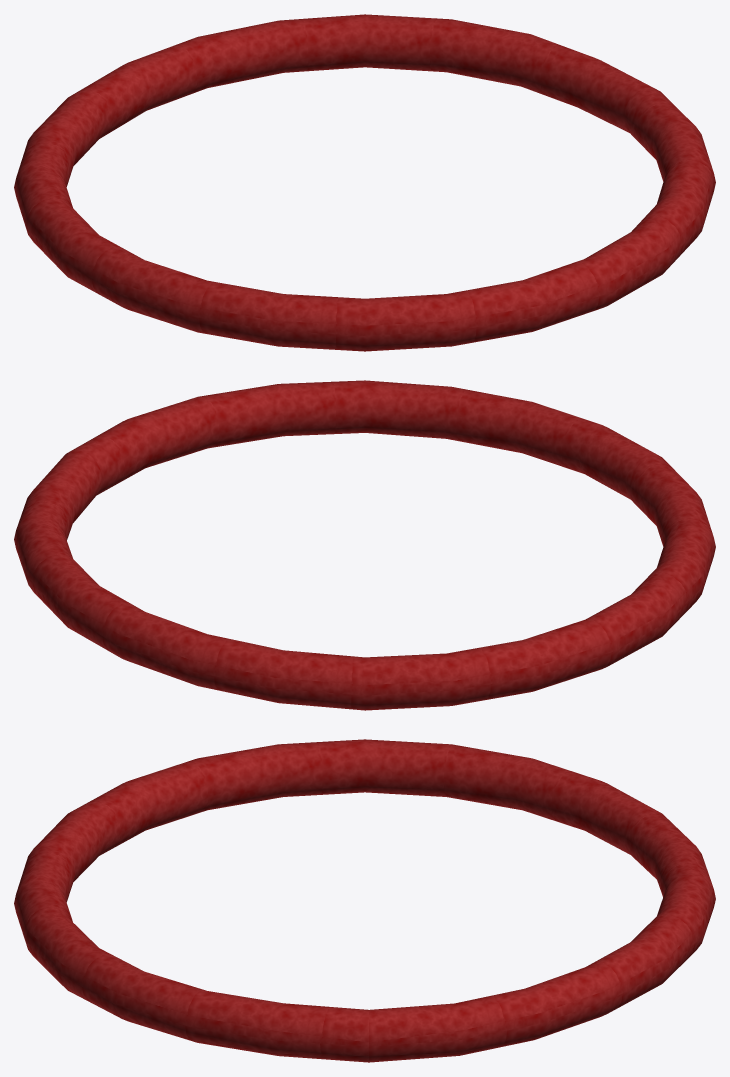
Rendered from red_blood_cells6 (circle).fbx.
3 views of the same model, one above another, from view 1: azimuth 30°, elevation 25°; view 2: azimuth 150°, elevation 25°; view 3: azimuth 270°, elevation 25° (orthographic).
Parts seen in each view (by area): view 1: Vessel; view 2: Vessel; view 3: Vessel.
Boxes of the visible parts, x1=… form: Vessel: x1=14, y1=14, x2=715, y2=351; Vessel: x1=14, y1=380, x2=715, y2=710; Vessel: x1=14, y1=739, x2=715, y2=1062.
Size of the model in its own units: 5128 by 466 by 5129.
